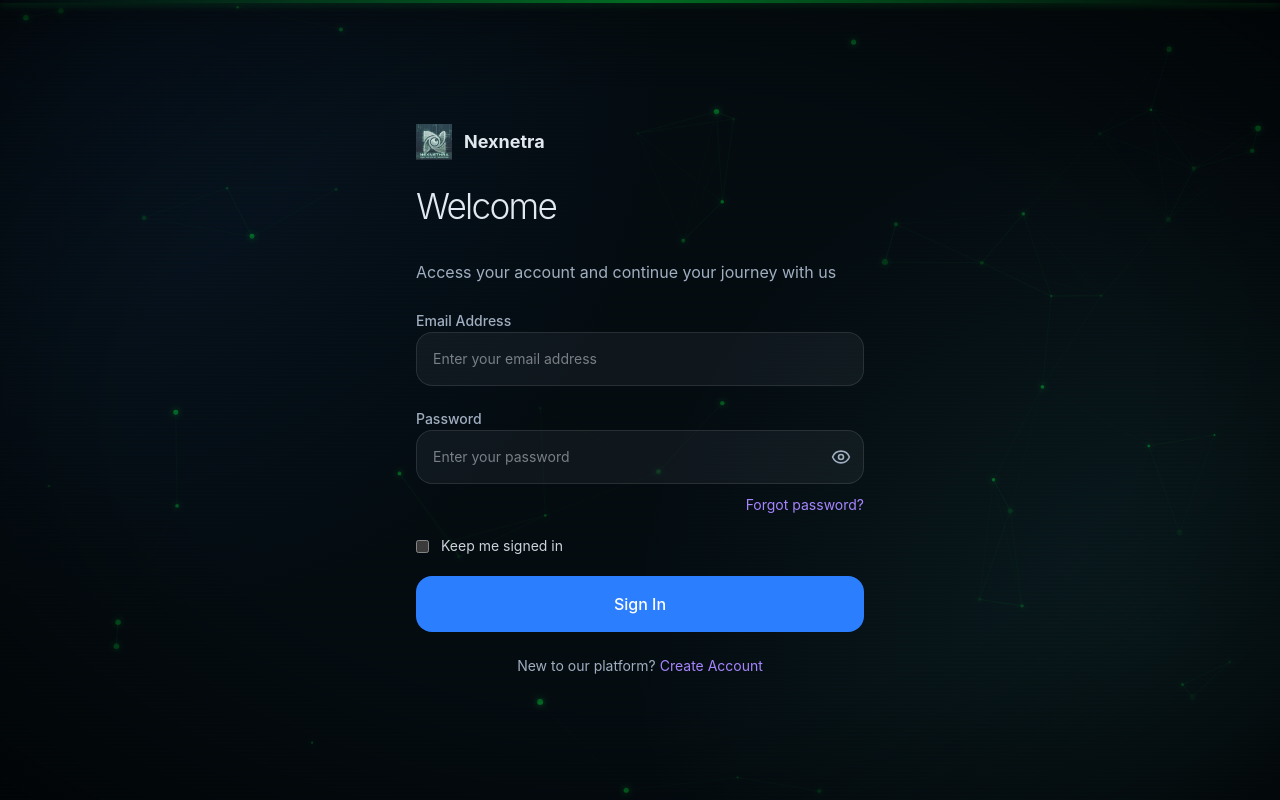
AuthPage login flow (cookie-based) › shows the error message on failed login
Type "user@example.com" into the field with placeholder "Enter your email address". click: (640, 359)
box: x1=417 y1=333 x2=863 y2=385
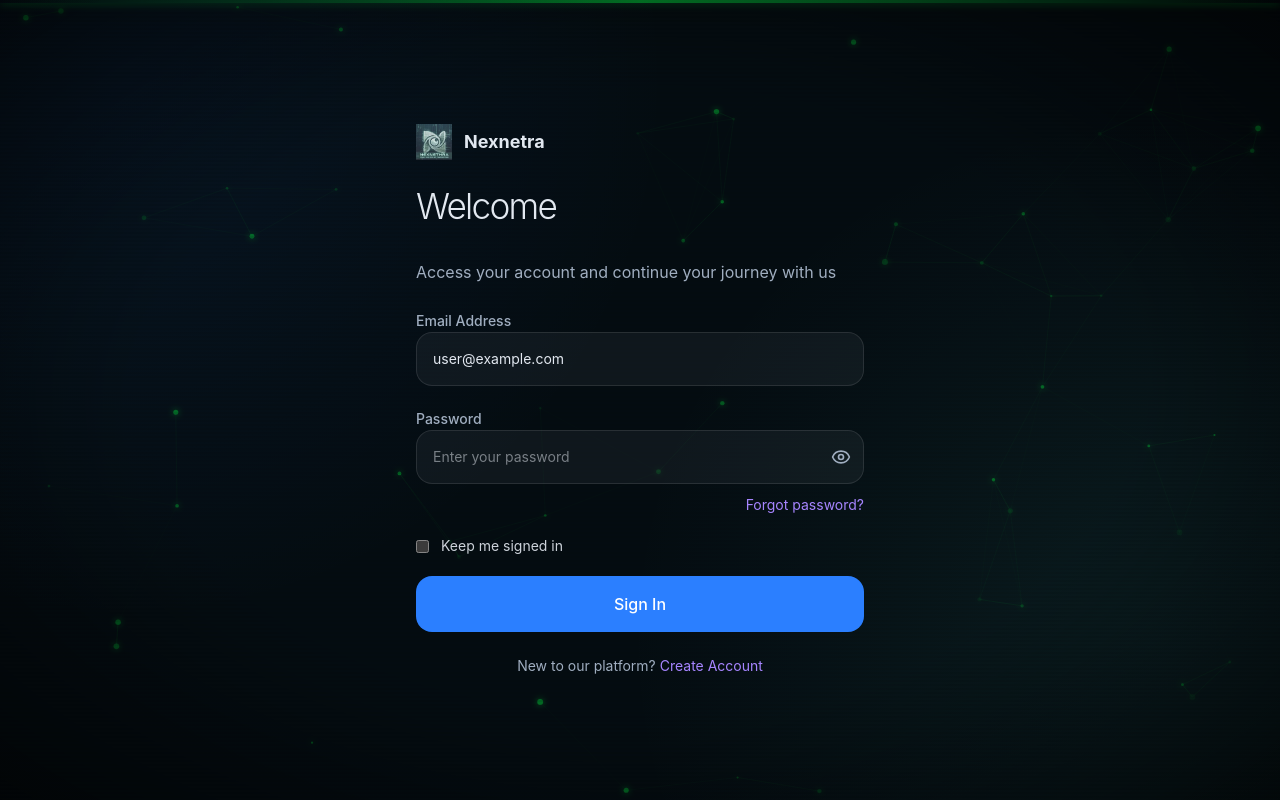
Type "WrongPass123!" into the password field with placeholder "Enter your password". click: (618, 457)
box: x1=417 y1=431 x2=819 y2=483
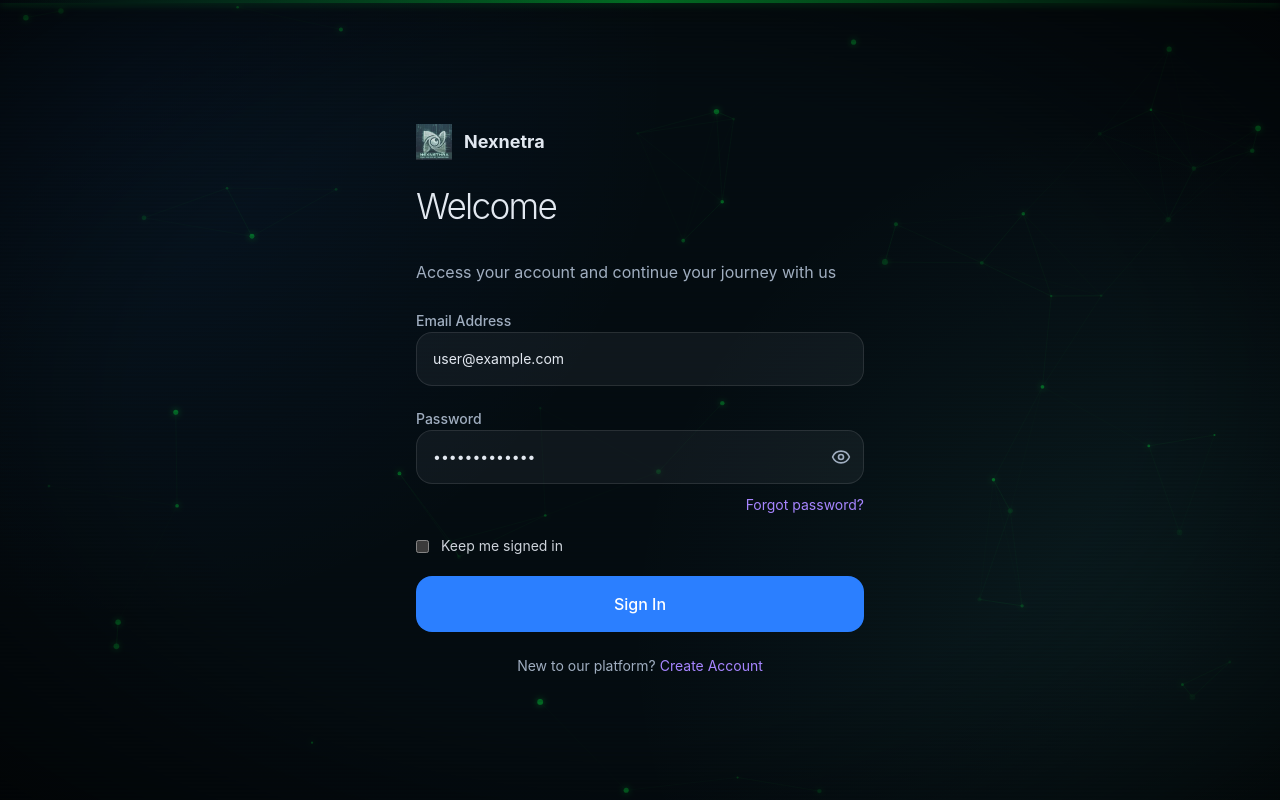
Click the button "Sign In". click: click(640, 604)
box: x1=416 y1=576 x2=864 y2=632
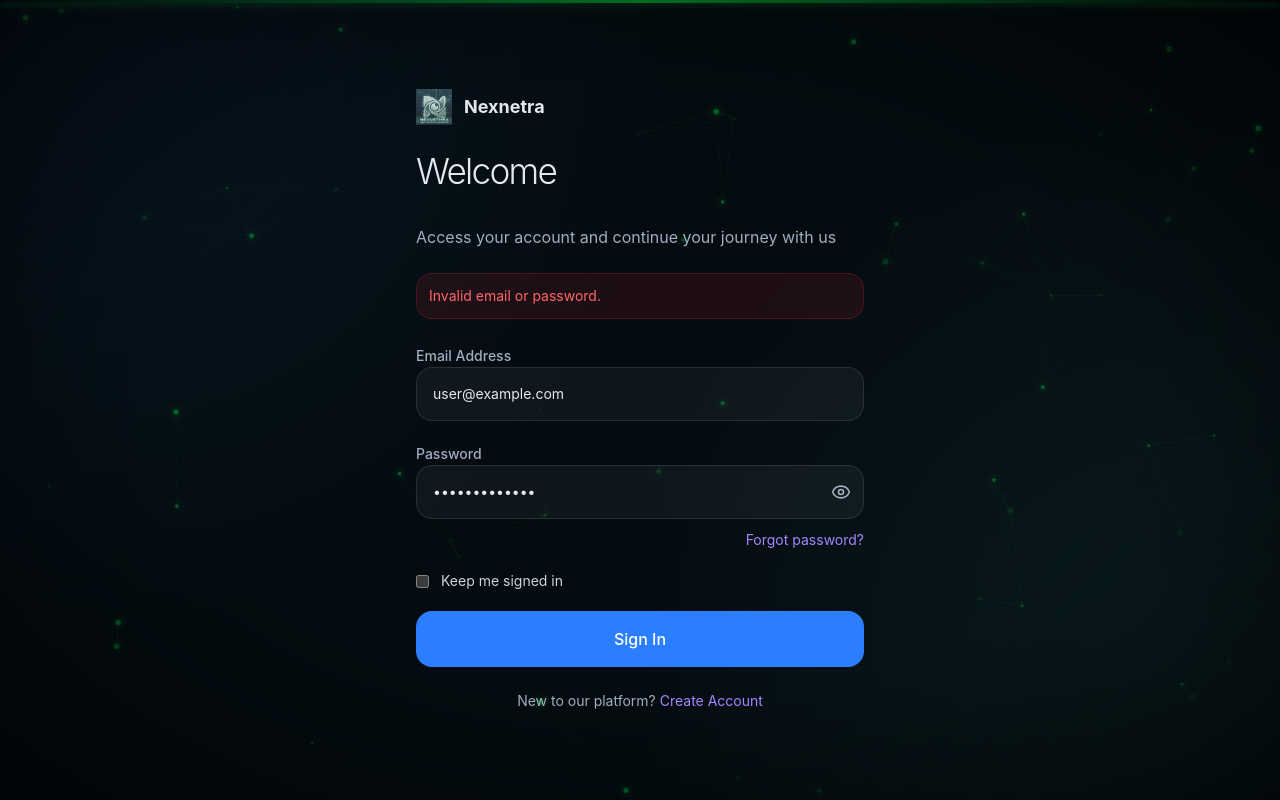
Now the text "Invalid email or password." is shown, box x1=416 y1=273 x2=864 y2=319
